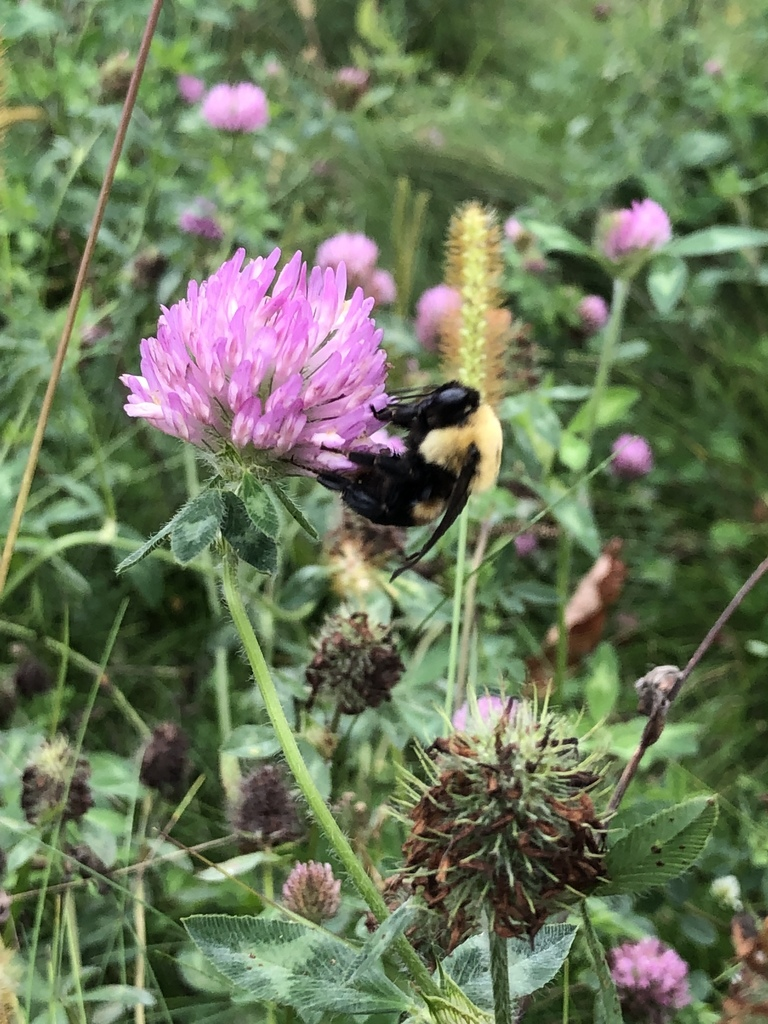bumblebee: (312, 381, 506, 584)
